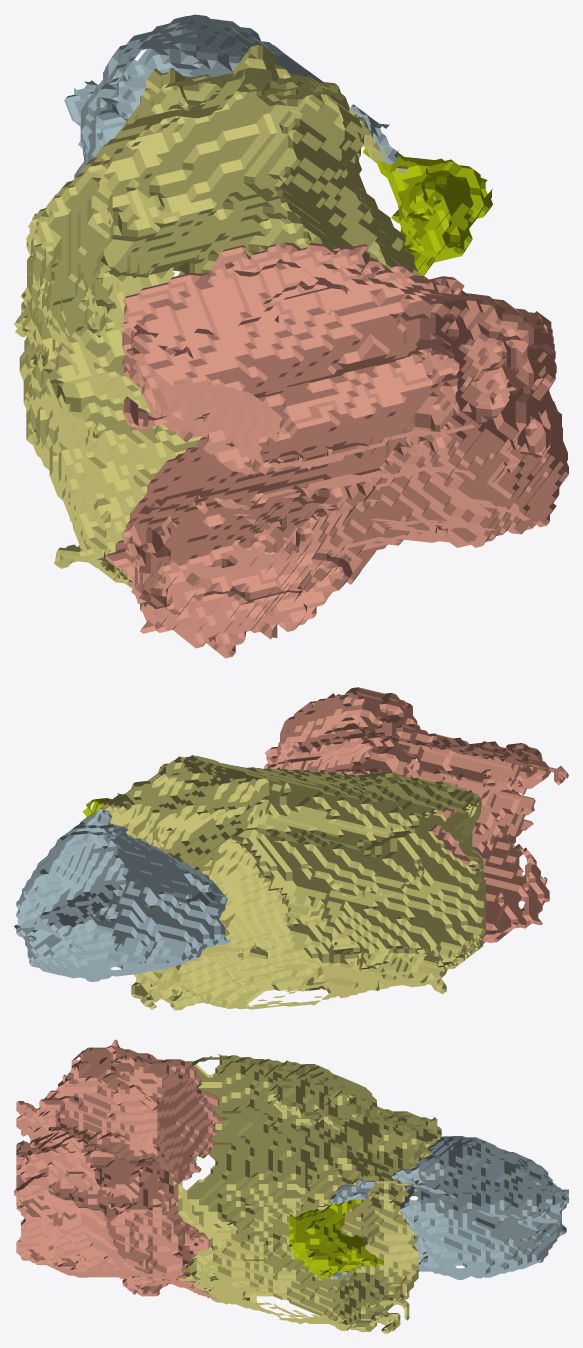
Rendered from brainstemSsLabels.glb.
3 views of the same model, one above another, from view 1: azimuth 30°, elevation 25°; view 2: azimuth 150°, elevation 25°; view 3: azimuth 270°, elevation 25° (orthographic). The views are drawn at different scales.
Parts seen in each view (by area): view 1: 173_Midbrain, 174_Pons, 175_Medulla, 178_SCP; view 2: 174_Pons, 173_Midbrain, 175_Medulla; view 3: 174_Pons, 173_Midbrain, 175_Medulla, 178_SCP.
Part boxes in pixels (x1,y1,x2,y2): 173_Midbrain: (105,242,568,658); 174_Pons: (14,45,435,588); 175_Medulla: (64,14,398,231); 178_SCP: (363,146,492,276); 174_Pons: (102,755,486,1010); 173_Midbrain: (251,687,568,943); 175_Medulla: (14,793,230,981); 174_Pons: (173,1054,441,1333); 173_Midbrain: (14,1039,221,1299); 175_Medulla: (330,1136,568,1279); 178_SCP: (243,1199,383,1278).
Size of the model in its own units: 41 by 28 by 60.
